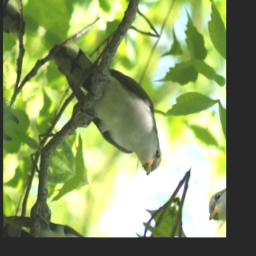Cuckoo: (33, 26, 182, 181)
